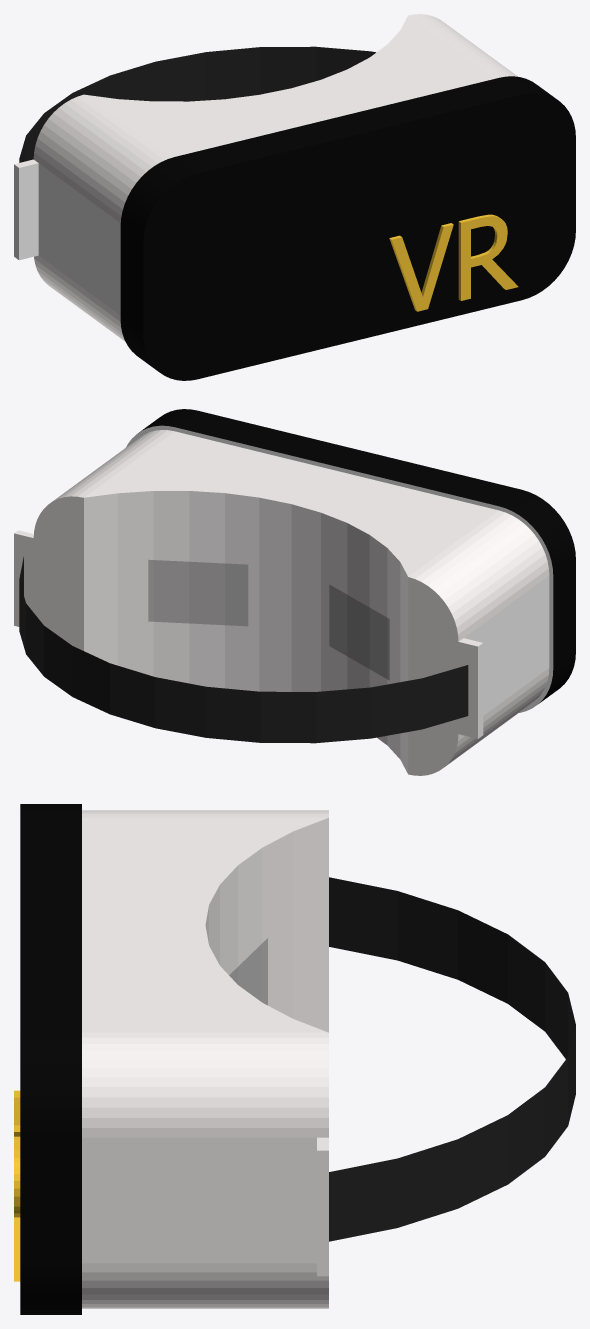
File: VRGlasses2.fbx
3 views of the same model, one above another, from view 1: azimuth 30°, elevation 25°; view 2: azimuth 150°, elevation 25°; view 3: azimuth 270°, elevation 25° (orthographic). The views are drawn at different scales.
Parts seen in each view (by area): view 1: skpC420_1, Component_2_1; view 2: skpC420_1; view 3: skpC420_1, Component_2_1.
Part boxes in pixels (<box>): skpC420_1: <box>14,14,575,380</box>; Component_2_1: <box>389,214,518,311</box>; skpC420_1: <box>14,409,575,775</box>; skpC420_1: <box>20,804,575,1314</box>; Component_2_1: <box>14,1090,20,1281</box>.
Size of the model in its own units: 0.236 by 0.1 by 0.182.
